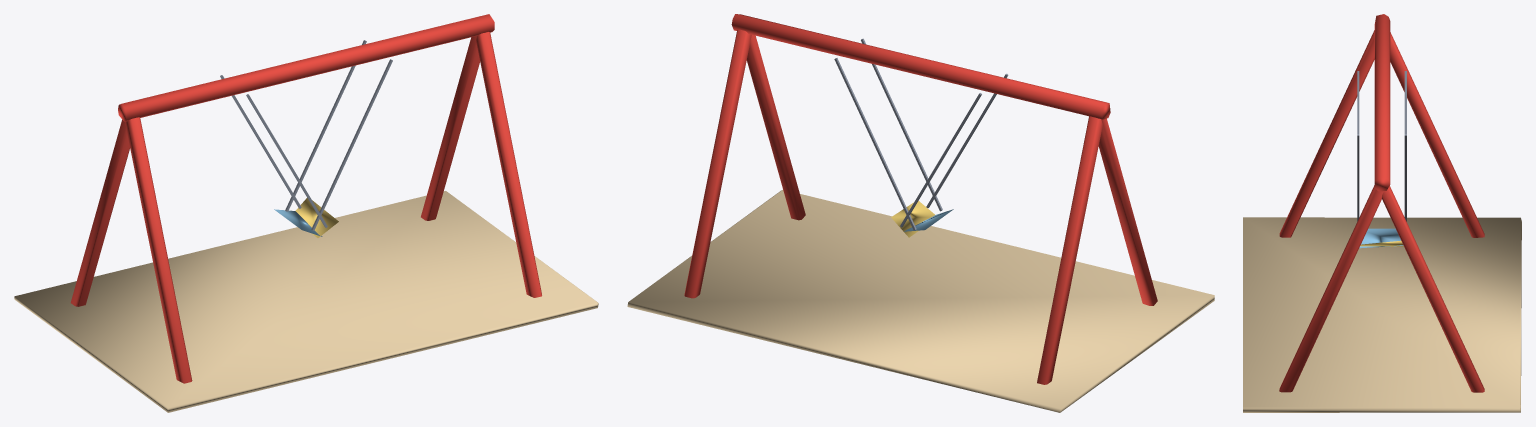
The model's file is swing.glb.
The picture shows the model from 3 angles, left to right: view 1: azimuth 30°, elevation 25°; view 2: azimuth 150°, elevation 25°; view 3: azimuth 270°, elevation 25°; orthographic projection. The views are drawn at different scales.
Visible parts, largest first — view 1: swing.005, seat1.022, seat0.012; view 2: swing.005, seat1.022, seat0.012; view 3: swing.005, seat1.022, seat0.012.
Boxes of the visible parts, x1,y1,x2,y2 form: swing.005: (14, 14, 598, 412); seat1.022: (274, 40, 392, 236); seat0.012: (220, 75, 338, 237); swing.005: (627, 14, 1214, 412); seat1.022: (834, 38, 953, 231); seat0.012: (891, 73, 1008, 237); swing.005: (1243, 14, 1521, 412); seat1.022: (1357, 134, 1406, 248); seat0.012: (1357, 71, 1406, 246).
Bounding box in the file's own units: 4.19 × 2.28 × 2.58.
Materials: 1 (1 with a texture image).
